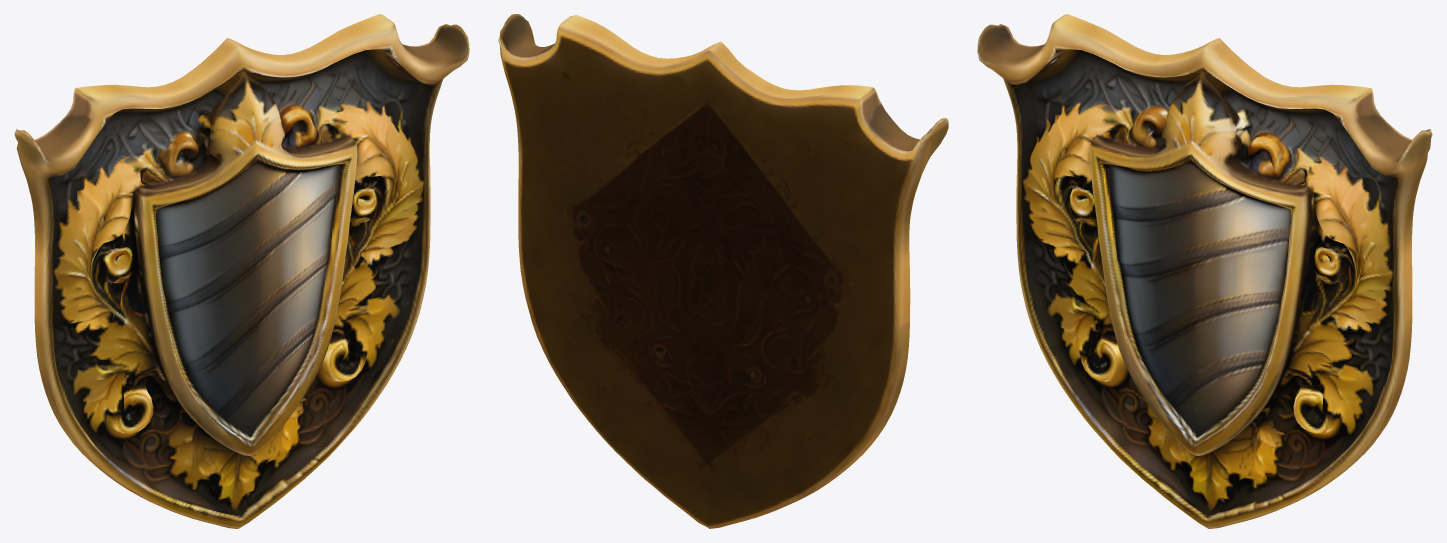
The model's file is lod_basic_shaded.fbx.
3 renders of one model, left to right at view 1: azimuth 30°, elevation 25°; view 2: azimuth 150°, elevation 25°; view 3: azimuth 330°, elevation 25°, orthographic.
Parts seen in each view (by area): view 1: model_LOD0; view 2: model_LOD0; view 3: model_LOD0.
Boxes of the visible parts, box(x1,y1,x2,y2) form: model_LOD0: box(14, 14, 469, 528); model_LOD0: box(498, 14, 948, 528); model_LOD0: box(977, 14, 1432, 528).
Size of what is drawn, in the model's own units: 146 by 156 by 18.02.
